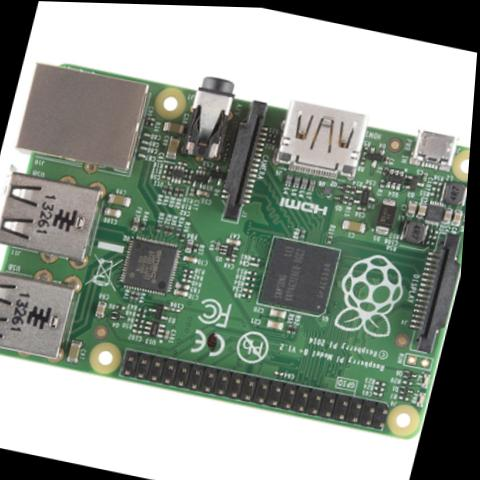Raspberry-Pi-1-Model-B-: (0, 32, 478, 447)
